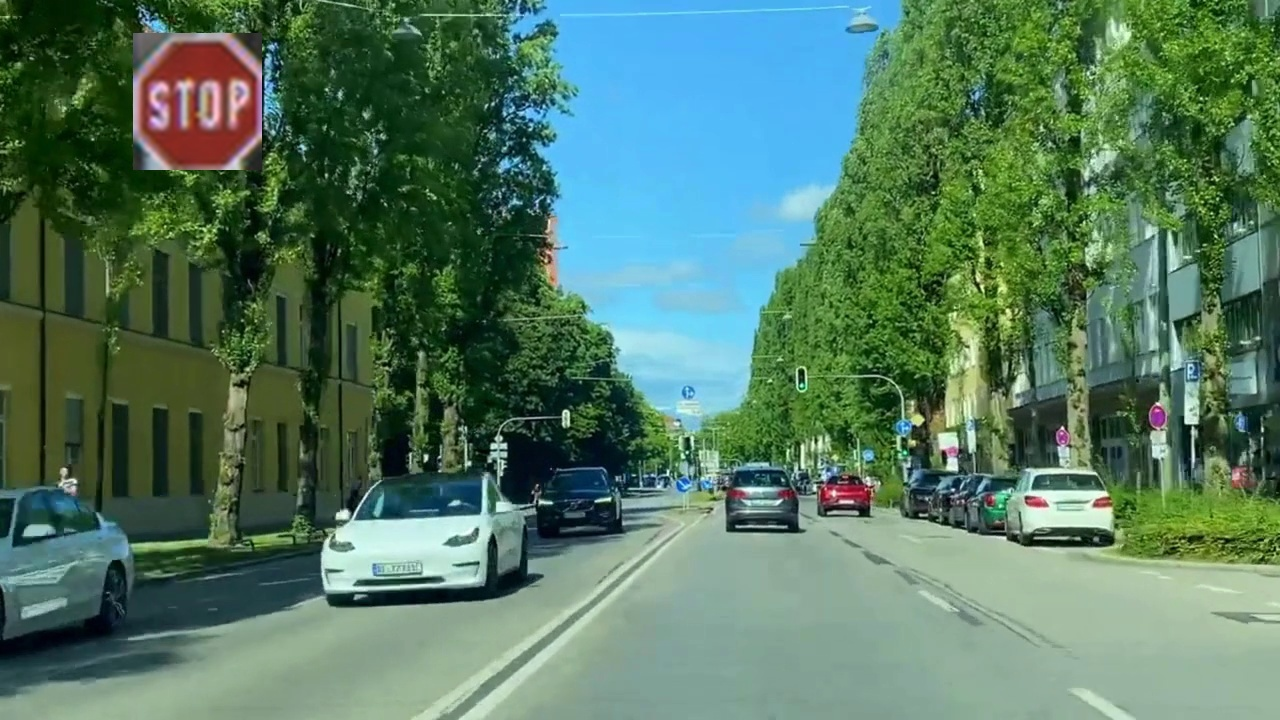Stop: (133, 33, 262, 170)
